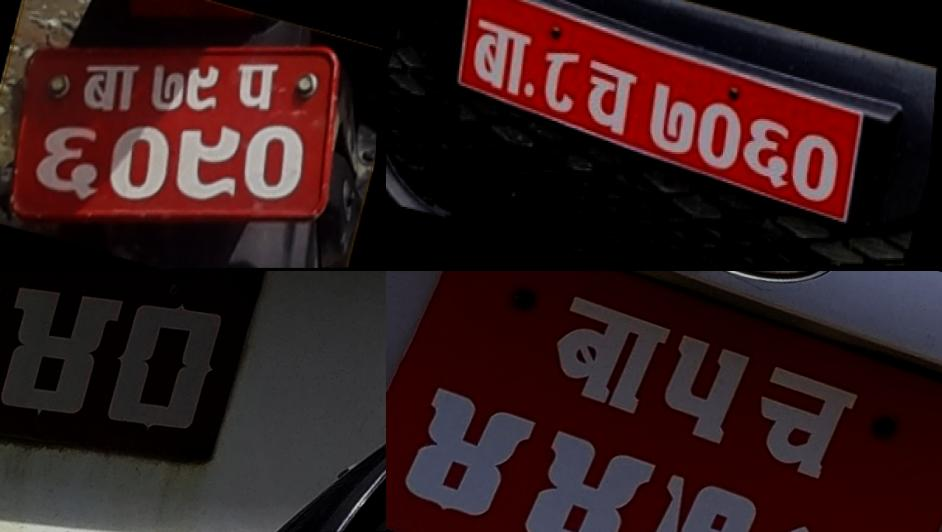0: (98, 285, 243, 449), (235, 115, 320, 213), (100, 117, 182, 213), (784, 123, 857, 208), (688, 92, 754, 178)
4: (391, 369, 553, 532), (0, 271, 140, 435), (508, 412, 679, 532)
5: (644, 322, 767, 459)
6: (23, 106, 117, 208), (736, 110, 806, 198)
7: (630, 458, 776, 532), (635, 77, 709, 160), (140, 58, 192, 120)
8: (529, 39, 595, 120)
9: (166, 113, 254, 211), (180, 56, 228, 120)
ba: (530, 283, 684, 423), (458, 13, 541, 99), (74, 48, 147, 122)
cha: (735, 350, 875, 495), (572, 53, 650, 142)
pa: (227, 50, 288, 121)
